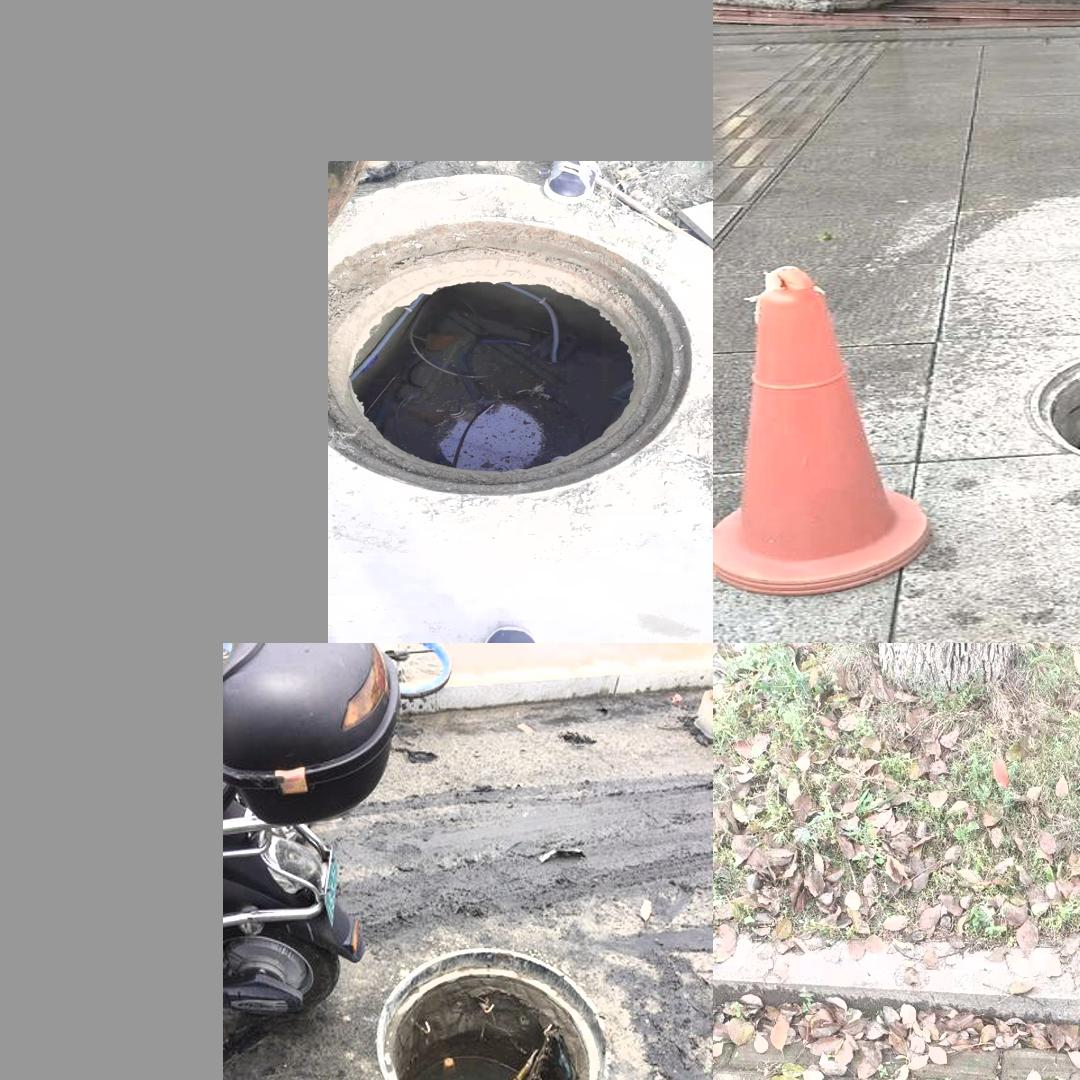lose: (335, 191, 688, 536), (373, 940, 626, 1080), (1019, 322, 1080, 499)
